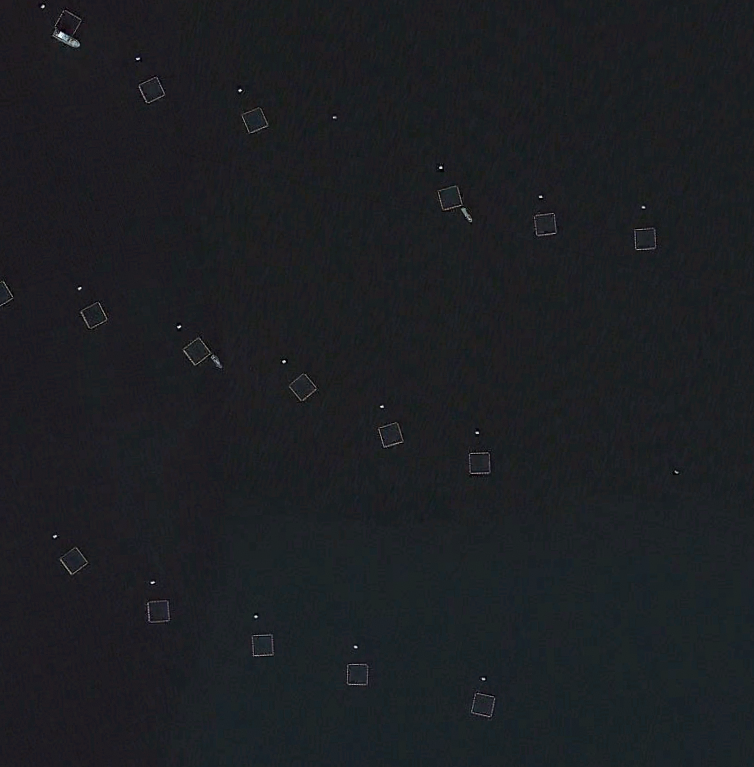ship: (44, 28, 82, 53), (203, 348, 226, 371)
square: (362, 411, 419, 463), (69, 285, 118, 338), (276, 361, 328, 410), (121, 68, 173, 105), (175, 333, 221, 373), (460, 445, 504, 486), (334, 656, 380, 695), (48, 540, 93, 579), (519, 203, 564, 240), (246, 629, 287, 669), (142, 590, 180, 633), (461, 686, 508, 718), (49, 6, 87, 40), (428, 178, 465, 212), (234, 106, 276, 134), (630, 223, 661, 252)
